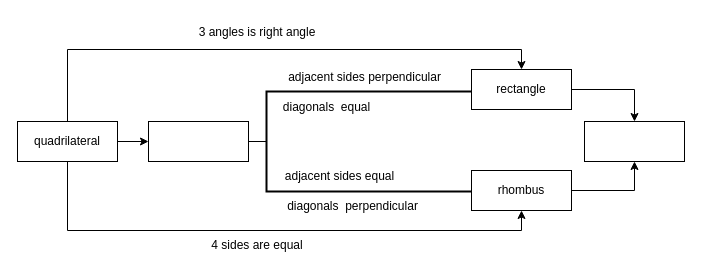
Some shapes in this 702 by 277 pixel diagram are drawn without their labels. Here are the shapes that lost their labels. From the top down, the centre of each, then its label:
the point at 198,141: parallelogram
the point at 634,141: square
